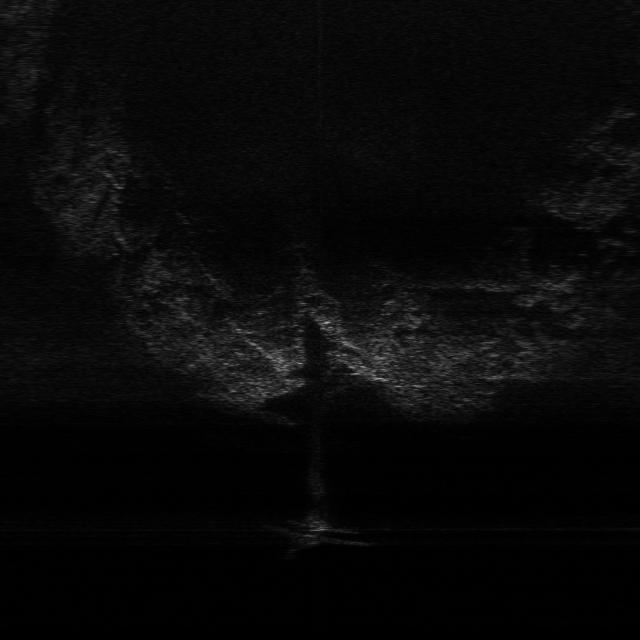plane: (264, 512, 374, 548)
